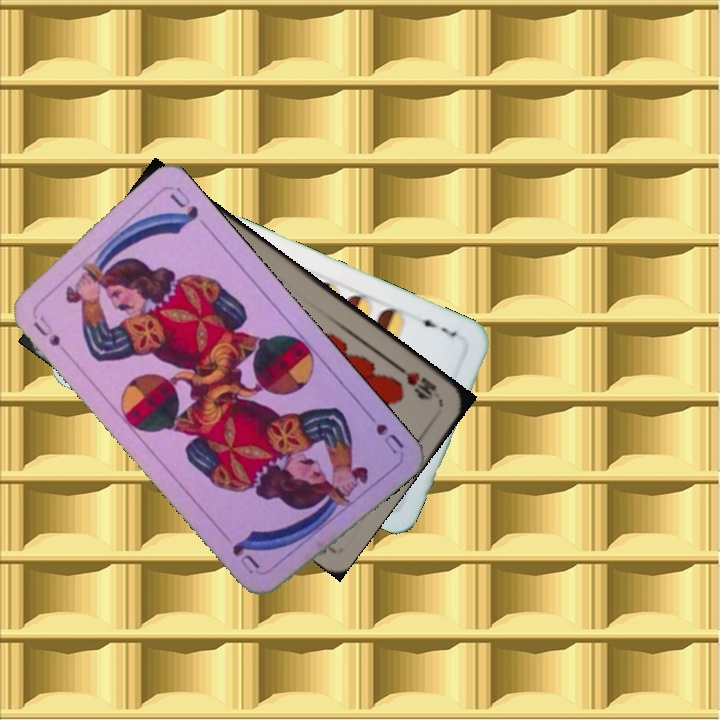E7: (413, 312, 461, 340)
H10: (392, 360, 439, 403)
SU: (360, 405, 407, 457), (29, 312, 63, 349)
